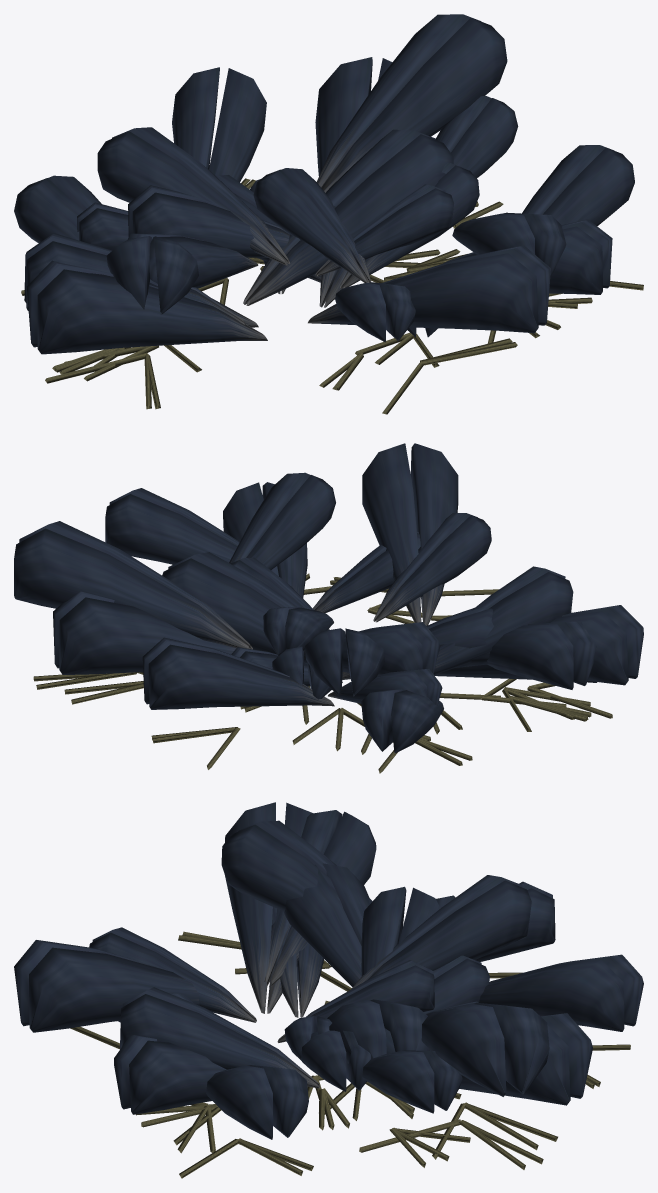
The model's file is mussels-60.glb.
The picture shows the model from 3 angles, top to bottom: view 1: azimuth 30°, elevation 25°; view 2: azimuth 150°, elevation 25°; view 3: azimuth 270°, elevation 25°; orthographic projection. The views are drawn at different scales.
Parts seen in each view (by area): view 1: LOD0; view 2: LOD0; view 3: LOD0.
Part boxes in pixels (left/top/right/bottom): LOD0: left=14, top=14, right=643, bottom=414; LOD0: left=14, top=443, right=643, bottom=773; LOD0: left=14, top=802, right=643, bottom=1178.
Size of what is drawn, in the model's own units: 0.3696 by 0.0982 by 0.3431.
Materials: 1 (1 with a texture image).
